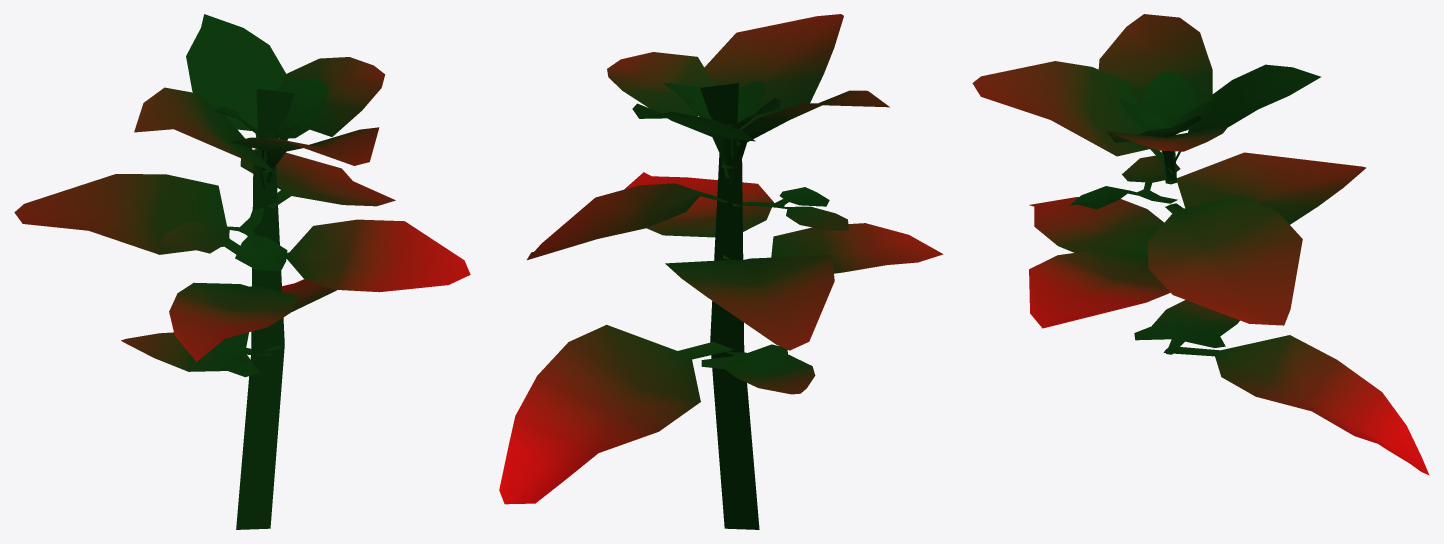
Rendered from Var1_LOD1.fbx.
3 views of the same model, side by side, from view 1: azimuth 30°, elevation 25°; view 2: azimuth 150°, elevation 25°; view 3: azimuth 270°, elevation 25° (orthographic).
Visible parts, largest first — view 1: _3393_Var1_LOD1; view 2: _3393_Var1_LOD1; view 3: _3393_Var1_LOD1.
Part boxes in pixels (<box>): _3393_Var1_LOD1: <box>14,14,470,529</box>; _3393_Var1_LOD1: <box>499,14,943,529</box>; _3393_Var1_LOD1: <box>972,14,1429,475</box>.
Bounding box in the file's own units: 15.52 × 22.11 × 19.98.
